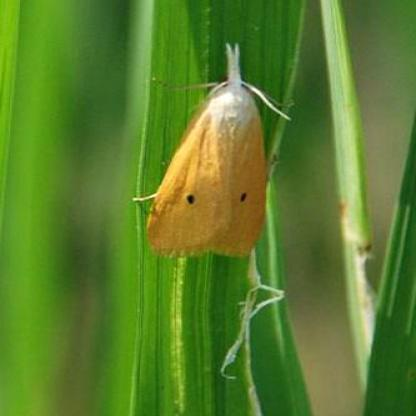stem-borer: (132, 40, 294, 258)
